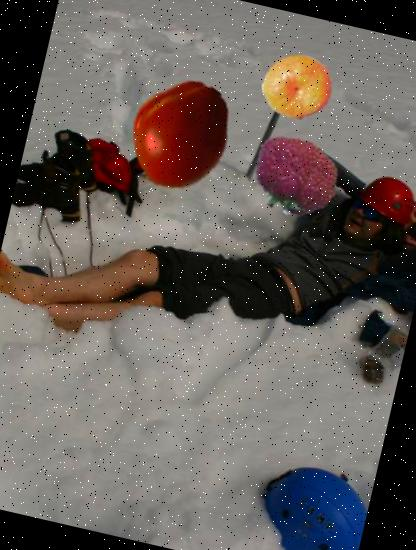Mandarine: (254, 45, 340, 130)
Strawberry: (240, 123, 348, 230)
Tomato: (113, 66, 247, 200)
